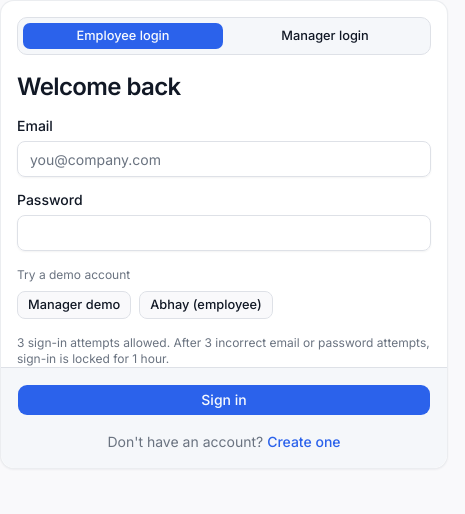
Test: <LoginForm /> › shows a validation error for an invalid email
In the field labelled "Email": (224, 159) top-left (17, 141), bottom-right (431, 177), type "not-an-email"
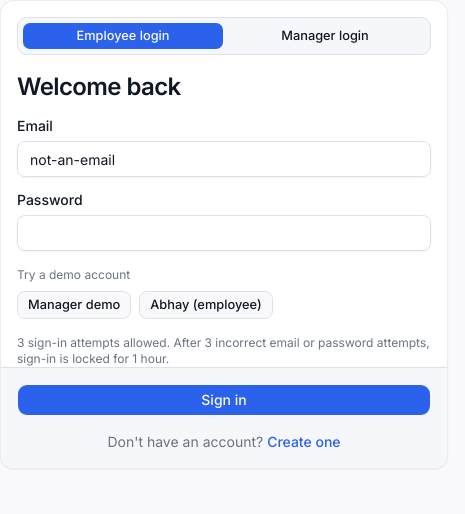
In the password field labelled "Password": (224, 233) top-left (17, 215), bottom-right (431, 251), type "secret1"
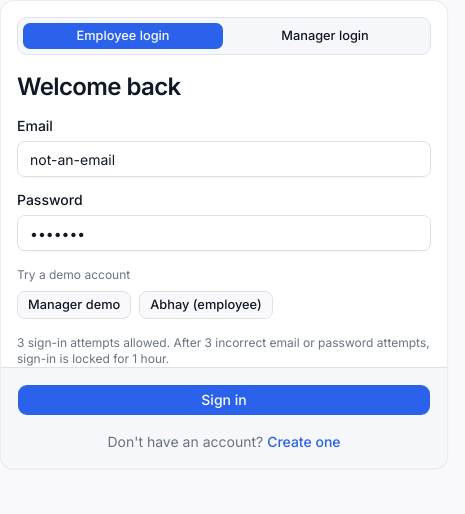
Click the button "Sign in": (224, 400) top-left (17, 384), bottom-right (431, 416)
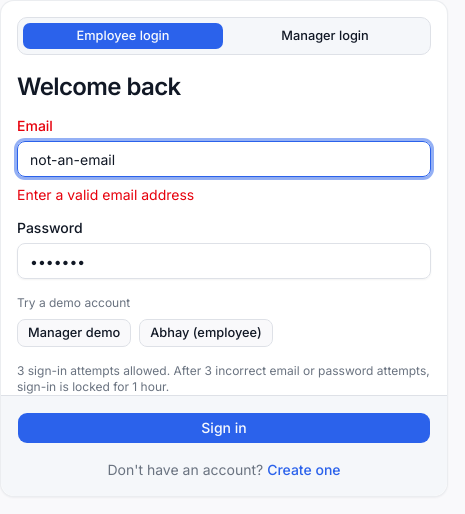
Now the text "Enter a valid email address" is shown, box top-left (17, 186), bottom-right (194, 203)
